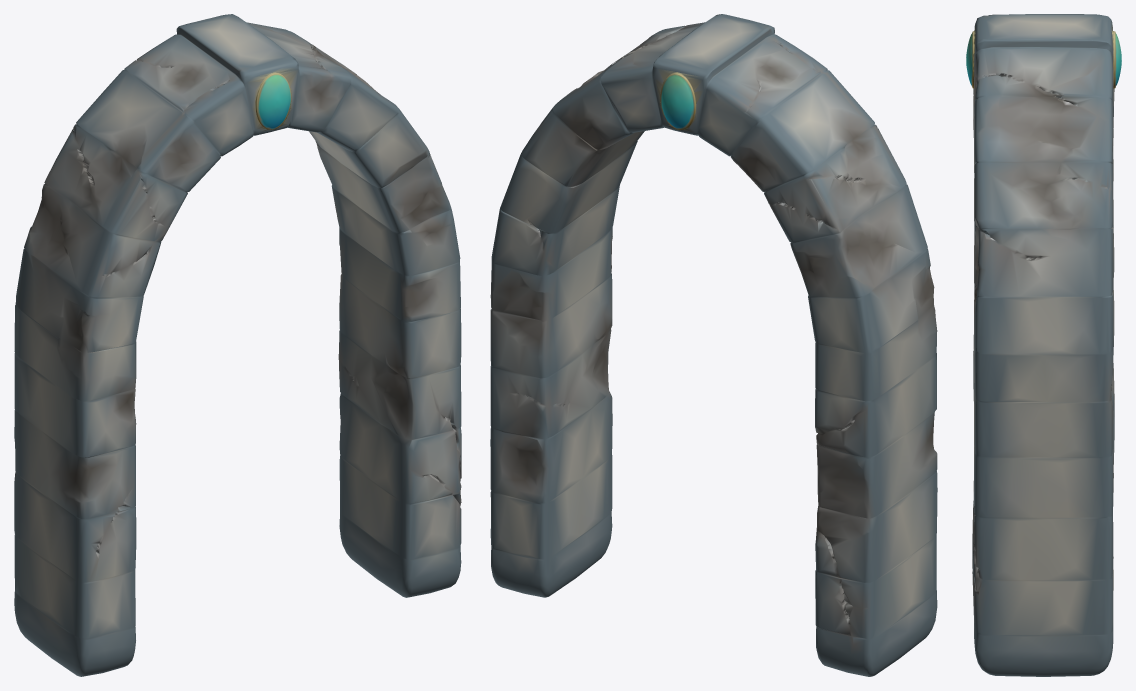
Rendered from SM_Archway.fbx.
3 renders of one model, left to right at view 1: azimuth 30°, elevation 25°; view 2: azimuth 150°, elevation 25°; view 3: azimuth 270°, elevation 25°, orthographic.
Parts seen in each view (by area): view 1: Gate; view 2: Gate; view 3: Gate.
Part boxes in pixels (left/top/right/bottom): Gate: left=14, top=14, right=461, bottom=676; Gate: left=490, top=14, right=937, bottom=676; Gate: left=966, top=14, right=1121, bottom=676.
Bounding box in the file's own units: 128 × 183 × 45.72.
